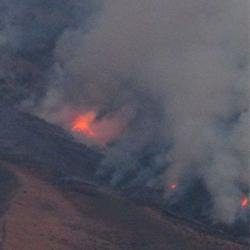fire: (73, 115, 91, 131)
smoke: (108, 2, 250, 124)
